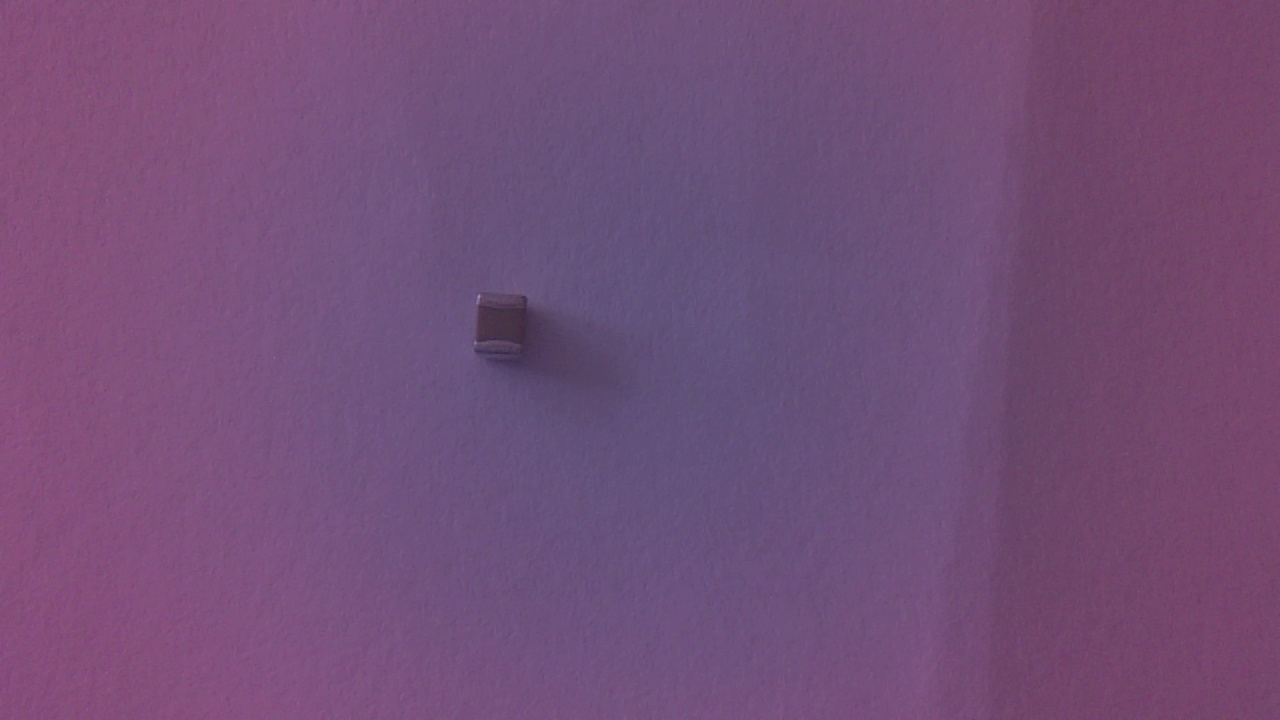Condensator: (471, 294, 541, 373)
